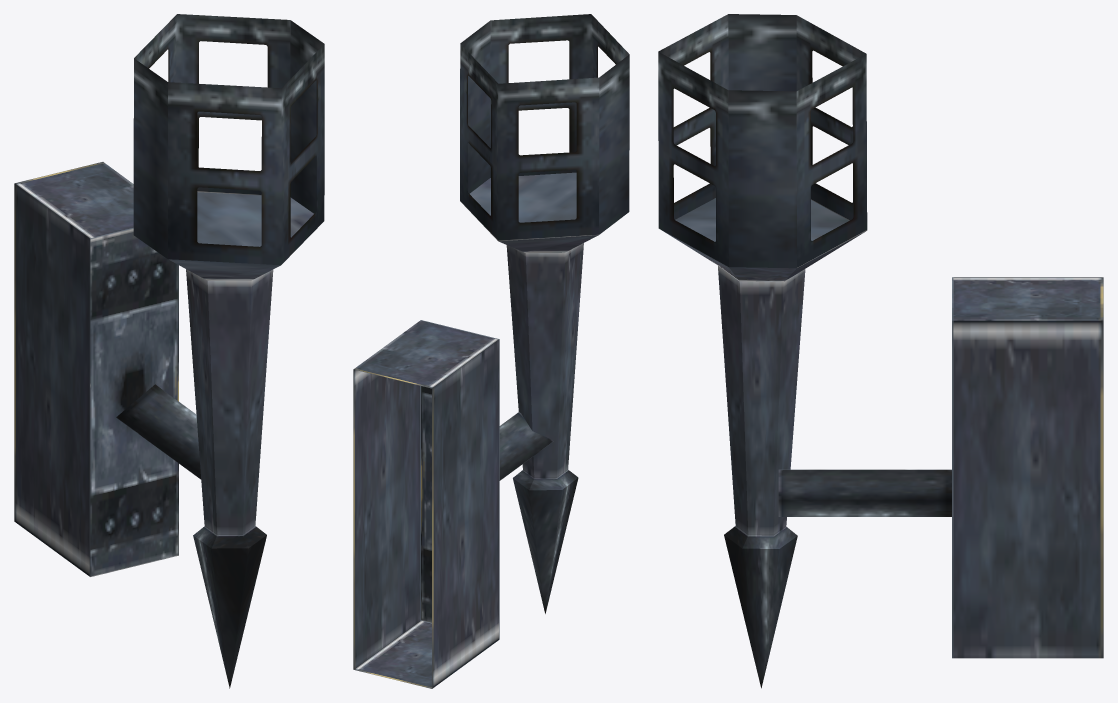
File: walltorch.fbx
3 views of the same model, side by side, from view 1: azimuth 30°, elevation 25°; view 2: azimuth 150°, elevation 25°; view 3: azimuth 270°, elevation 25° (orthographic). The views are drawn at different scales.
Parts seen in each view (by area): view 1: 16_-_Default; view 2: 16_-_Default; view 3: 16_-_Default.
Boxes of the visible parts, x1,y1,x2,y2 form: 16_-_Default: (14,14,324,688); 16_-_Default: (353,14,629,688); 16_-_Default: (658,14,1103,688).
Size of the model in its own units: 0.4095 by 1.6 by 1.01.
